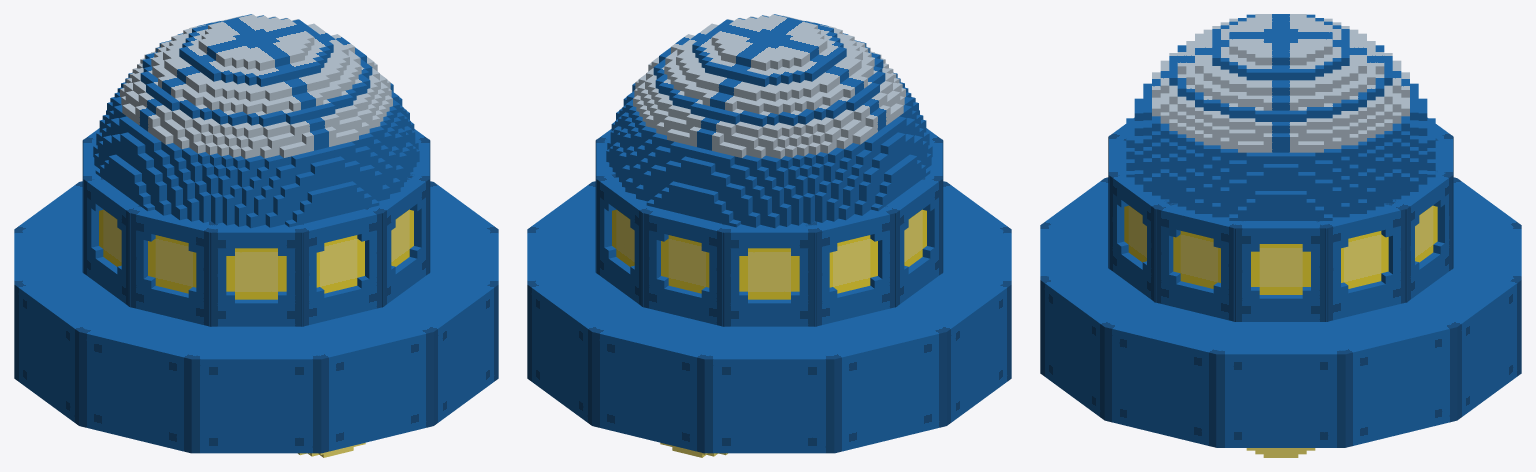
Rendered from UFO.glb.
3 renders of one model, left to right at view 1: azimuth 30°, elevation 25°; view 2: azimuth 150°, elevation 25°; view 3: azimuth 270°, elevation 25°, orthographic.
Parts seen in each view (by area): view 1: cover-Local, en8-Local, en9-Local, en7-Local, en6-Local, en10-Local, en8$$(1)-Local, en7$$(1)-Local, en9$$(1)-Local, en6$$(1)-Local, en10$$(1)-Local, en5-Local (+5 smaller); view 2: cover-Local, en12-Local, en11-Local, en1-Local, en2-Local, en12$$(1)-Local, en10-Local, en1$$(1)-Local, en11$$(1)-Local, en10$$(1)-Local, en2$$(1)-Local, en3-Local (+5 smaller); view 3: cover-Local, en4-Local, en3-Local, en5-Local, en6-Local, en2-Local, en4$$(1)-Local, en3$$(1)-Local, en5$$(1)-Local, en2$$(1)-Local, en6$$(1)-Local, en7-Local (+6 smaller).
Part boxes in pixels (x1,y1,x2,y2): cover-Local: [93, 14, 419, 228]; en8-Local: [191, 322, 321, 453]; en9-Local: [79, 301, 216, 453]; en7-Local: [277, 301, 433, 453]; en6-Local: [358, 284, 498, 425]; en10-Local: [14, 267, 120, 425]; en8$$(1)-Local: [209, 221, 303, 326]; en7$$(1)-Local: [294, 209, 384, 326]; en9$$(1)-Local: [128, 205, 216, 326]; en6$$(1)-Local: [365, 174, 430, 307]; en10$$(1)-Local: [82, 179, 142, 307]; en5-Local: [415, 229, 498, 284]; cover-Local: [606, 14, 932, 228]; en12-Local: [704, 326, 834, 453]; en11-Local: [790, 301, 946, 453]; en1-Local: [592, 309, 748, 453]; en2-Local: [527, 280, 667, 425]; en12$$(1)-Local: [722, 221, 816, 326]; en10-Local: [902, 270, 1011, 425]; en1$$(1)-Local: [641, 206, 732, 326]; en11$$(1)-Local: [805, 206, 897, 326]; en10$$(1)-Local: [881, 175, 943, 307]; en2$$(1)-Local: [595, 174, 655, 307]; en3-Local: [527, 229, 610, 284]; cover-Local: [1126, 14, 1435, 220]; en4-Local: [1216, 317, 1345, 447]; en3-Local: [1303, 296, 1457, 447]; en5-Local: [1104, 308, 1252, 447]; en6-Local: [1040, 271, 1179, 420]; en2-Local: [1383, 266, 1521, 420]; en4$$(1)-Local: [1233, 221, 1328, 321]; en3$$(1)-Local: [1316, 199, 1407, 321]; en5$$(1)-Local: [1154, 200, 1243, 321]; en2$$(1)-Local: [1384, 171, 1453, 302]; en6$$(1)-Local: [1108, 174, 1177, 302]; en7-Local: [1040, 225, 1113, 279].
Bounding box in the file's own units: 56 × 45.31 × 56.
29 materials, 29 textured.
